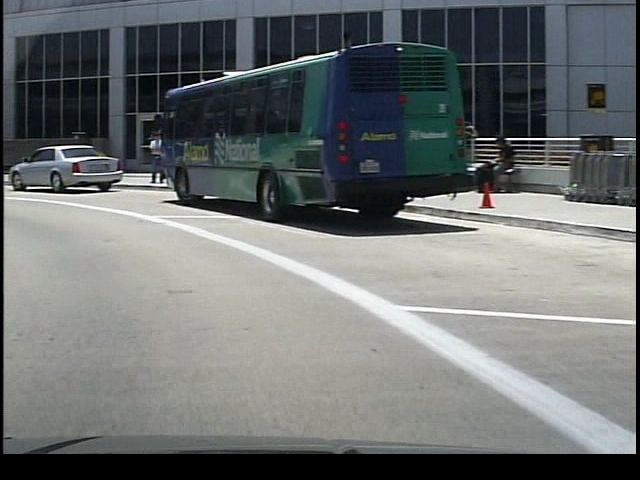person: (471, 130, 514, 195), (142, 130, 162, 185)
